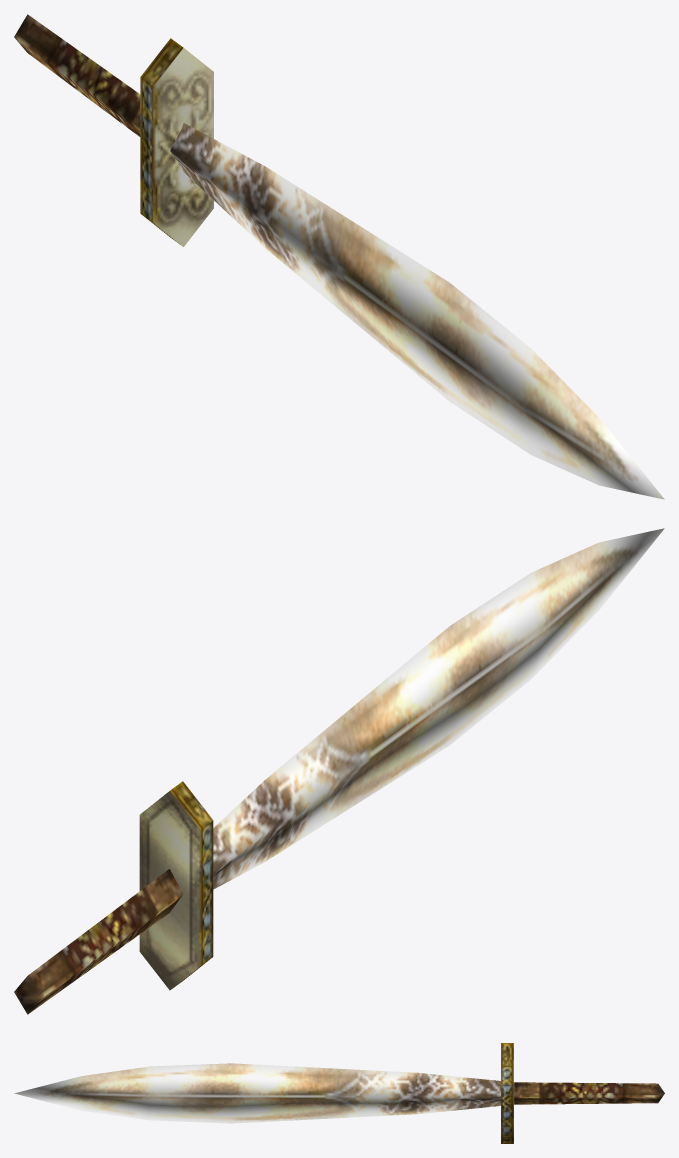
3 renders of one model, top to bottom at view 1: azimuth 30°, elevation 25°; view 2: azimuth 150°, elevation 25°; view 3: azimuth 270°, elevation 25°, orthographic. The views are drawn at different scales.
Visible parts, largest first — view 1: ws14-col; view 2: ws14-col; view 3: ws14-col.
Boxes of the visible parts, x1,y1,x2,y2 form: ws14-col: (14, 14, 664, 499); ws14-col: (14, 528, 664, 1014); ws14-col: (14, 1043, 664, 1143).
Size of the model in its own units: 0.056 by 0.1759 by 1.03.
Materials: 1 (1 with a texture image).
